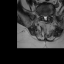CCS_normal: (44, 13, 46, 23)
LFS_severe_stenosis: (48, 12, 49, 18)
LLS_stenosis: (46, 13, 48, 19)
RFS_severe_stenosis: (41, 12, 43, 18)
RLS_normal: (43, 13, 44, 20)
